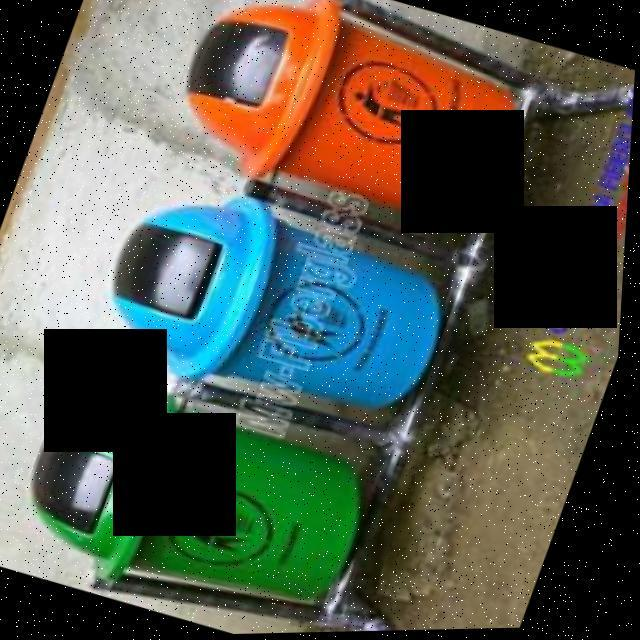bin: (70, 151, 489, 459), (0, 347, 419, 639), (150, 0, 563, 257)
